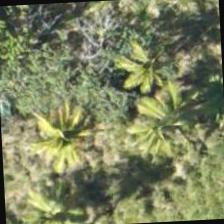Kelapa_Sawit: (116, 83, 211, 178), (21, 96, 116, 191), (81, 0, 176, 88), (9, 157, 104, 223)
